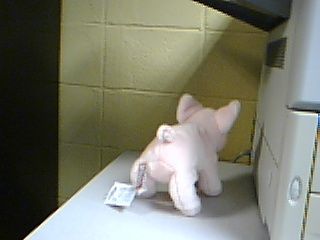piggy: (129, 92, 244, 214)
